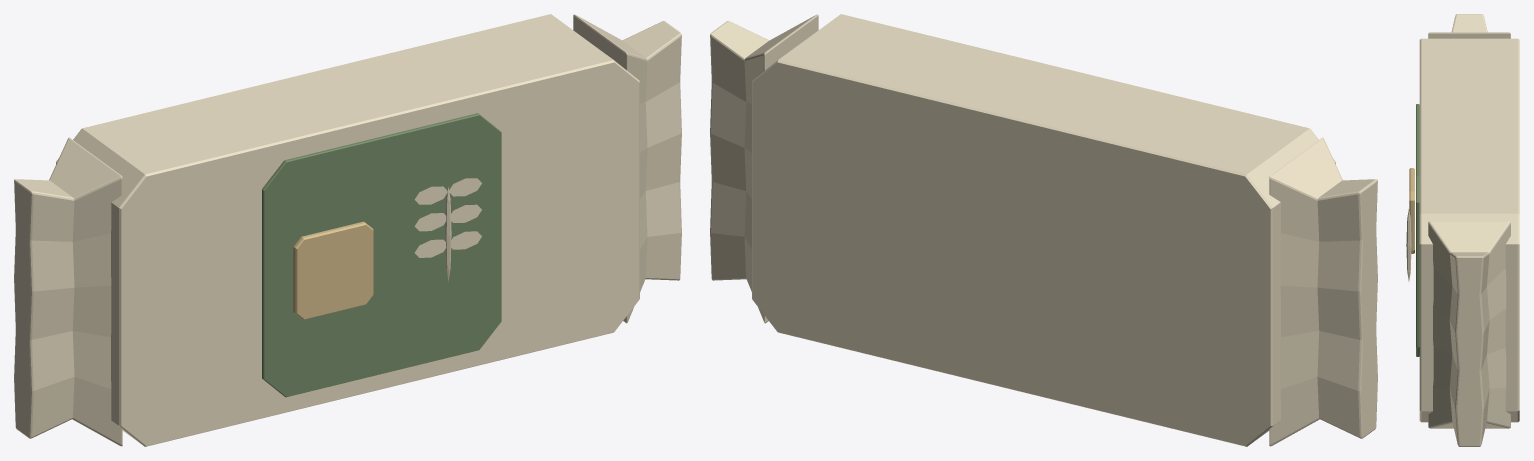
The model's file is halva.glb.
The picture shows the model from 3 angles, left to right: view 1: azimuth 30°, elevation 25°; view 2: azimuth 150°, elevation 25°; view 3: azimuth 270°, elevation 25°; orthographic projection. The views are drawn at different scales.
Parts seen in each view (by area): view 1: halva; view 2: halva; view 3: halva.
Part boxes in pixels (x1,y1,x2,y2): halva: (14, 14, 681, 446); halva: (710, 14, 1377, 446); halva: (1406, 14, 1519, 446).
Bounding box in the file's own units: 0.15 × 0.06 × 0.0295.
